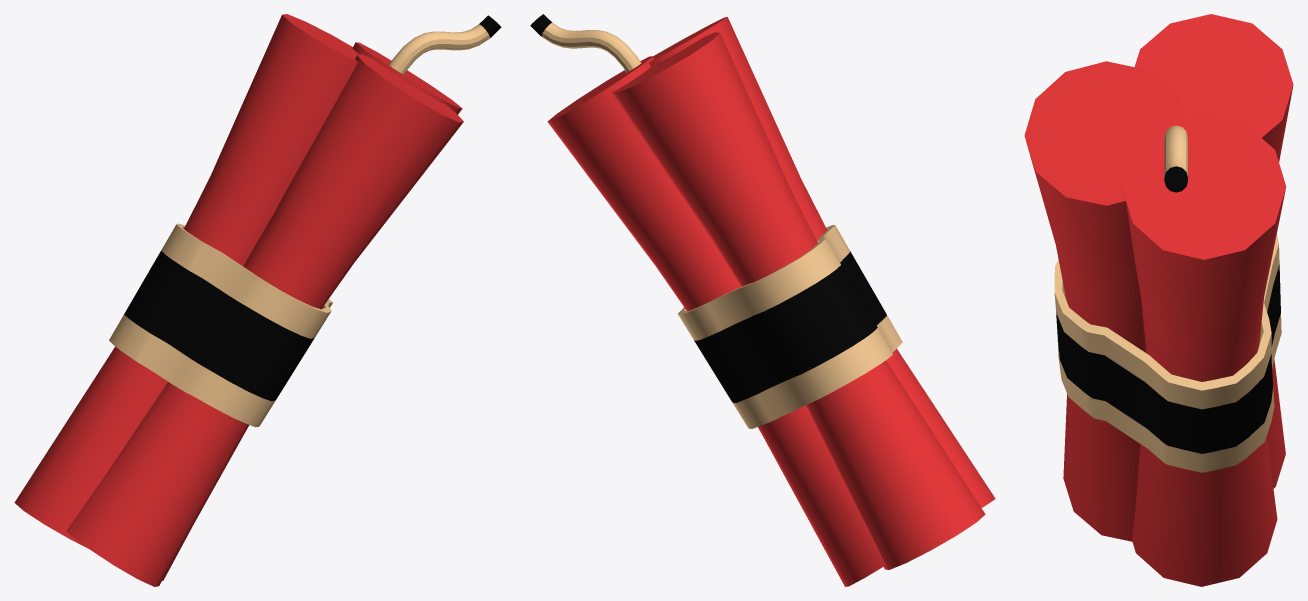
The model's file is DynamiteImport.fbx.
3 renders of one model, left to right at view 1: azimuth 30°, elevation 25°; view 2: azimuth 150°, elevation 25°; view 3: azimuth 270°, elevation 25°, orthographic. The views are drawn at different scales.
Parts seen in each view (by area): view 1: Circle; view 2: Circle; view 3: Circle.
Boxes of the visible parts, box(x1,y1,x2,y2) form: Circle: box(14, 14, 501, 586); Circle: box(530, 14, 995, 586); Circle: box(1024, 14, 1293, 586).
Size of the model in its own units: 49.47 by 52.28 by 19.25.
